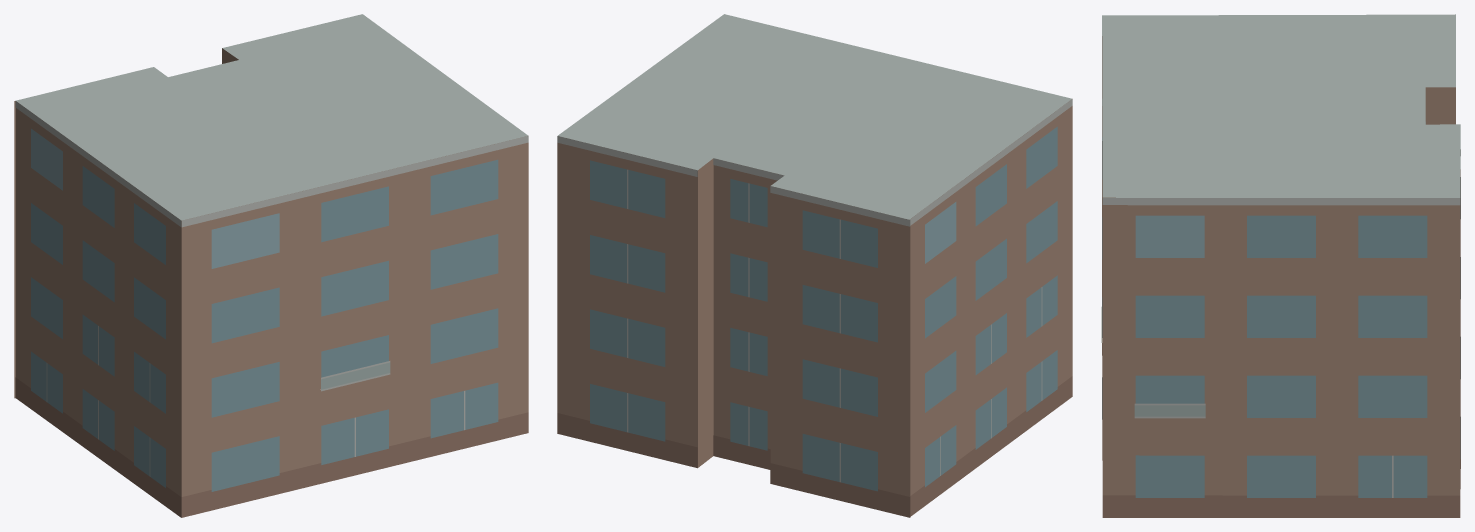
The model's file is survey-upis-32819876.glb.
3 renders of one model, left to right at view 1: azimuth 30°, elevation 25°; view 2: azimuth 150°, elevation 25°; view 3: azimuth 270°, elevation 25°, orthographic. The views are drawn at different scales.
Parts seen in each view (by area): view 1: survey-upis-32819876.tmp; view 2: survey-upis-32819876.tmp; view 3: survey-upis-32819876.tmp.
Boxes of the visible parts, x1,y1,x2,y2 form: survey-upis-32819876.tmp: (14, 14, 528, 517); survey-upis-32819876.tmp: (557, 14, 1072, 517); survey-upis-32819876.tmp: (1101, 14, 1460, 517).
Size of the model in its own units: 13.1 by 10.6 by 10.81.
